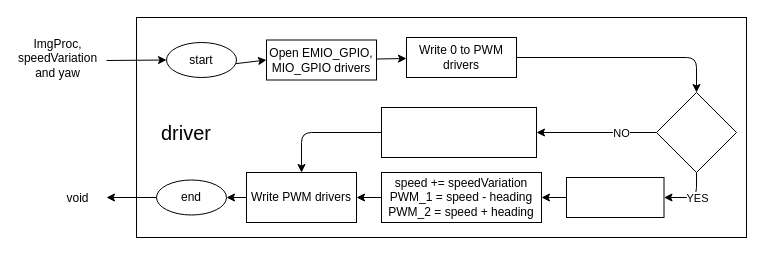
Some shapes in this 764 by 255 pixel diagram are drawn without their labels. Each missing label, with the centre of its shape:
"ImgProc>0" goes at (696,132).
"Turn off L298N" goes at (458,132).
"Turn on L298N" goes at (615,197).
